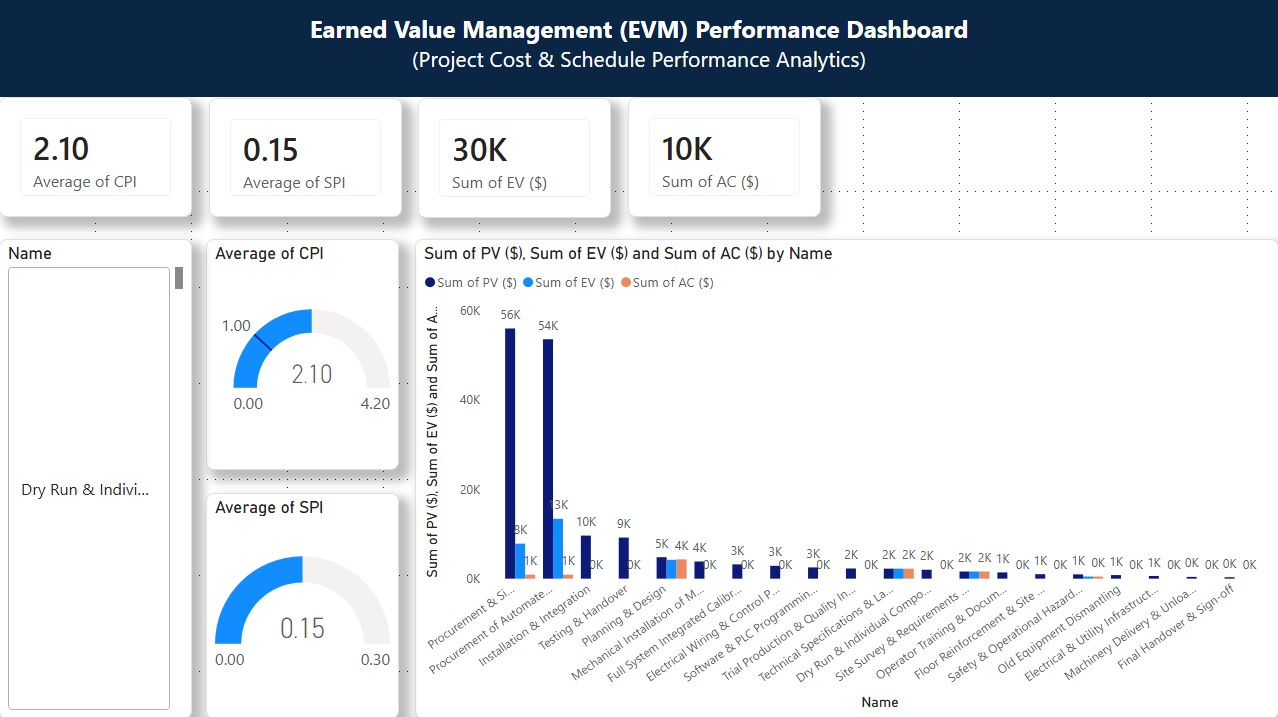

This screenshot's page, from the dashboard's own definition file:
{"tool":"powerbi","page":{"name":"Page 1","canvas":[1280,720],"ordinal":0},"visuals":[{"type":"cardVisual","fields":{"Data":["Avg(EVM Data.CPI)"]},"box":[0,98,193,120],"z":0},{"type":"cardVisual","fields":{"Data":["Avg(EVM Data.SPI)"]},"box":[209.7,99,193,119],"z":1000},{"type":"cardVisual","fields":{"Data":["Sum(EVM Data.EV ($))"]},"box":[419.3,99,193,120],"z":2000},{"type":"cardVisual","fields":{"Data":["Sum(EVM Data.AC ($))"]},"box":[629,98,193,120],"z":3000},{"type":"clusteredColumnChart","fields":{"Category":["EVM Data.Name"],"Y":["Sum(EVM Data.PV ($))","Sum(EVM Data.EV ($))","Sum(EVM Data.AC ($))"]},"box":[416,240,864,480],"z":4000},{"type":"gauge","fields":{"Y":["Avg(EVM Data.CPI)"]},"box":[207,240,193,231],"z":5000},{"type":"advancedSlicerVisual","fields":{"Values":["EVM Data.Name"]},"box":[0,240,193,480],"z":6000},{"type":"shape","box":[0,0,1280,98],"z":7000},{"type":"textbox","box":[0,0,1280,98],"z":8000},{"type":"gauge","fields":{"Y":["Avg(EVM Data.SPI)"]},"box":[207,494,193,226],"z":9000}]}

Visuals, with their boxes in screenshot pixels (x1, y1, x2, y2), scaled from the page's 1280x720 canvas onto the 1278x717 screenshot:
cardVisual - Avg(EVM Data.CPI): Rect(0, 98, 193, 217)
cardVisual - Avg(EVM Data.SPI): Rect(209, 99, 402, 217)
cardVisual - Sum(EVM Data.EV ($)): Rect(419, 99, 611, 218)
cardVisual - Sum(EVM Data.AC ($)): Rect(628, 98, 821, 217)
clusteredColumnChart - EVM Data.Name x Sum(EVM Data.PV ($)): Rect(415, 239, 1277, 716)
gauge - Avg(EVM Data.CPI): Rect(207, 239, 399, 469)
advancedSlicerVisual - EVM Data.Name: Rect(0, 239, 193, 716)
shape: Rect(0, 0, 1277, 98)
textbox: Rect(0, 0, 1277, 98)
gauge - Avg(EVM Data.SPI): Rect(207, 492, 399, 716)
